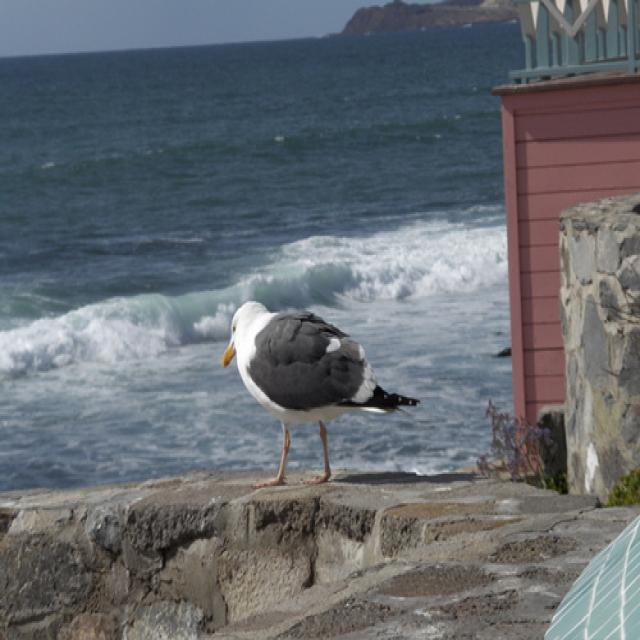bird: (221, 300, 420, 487)
